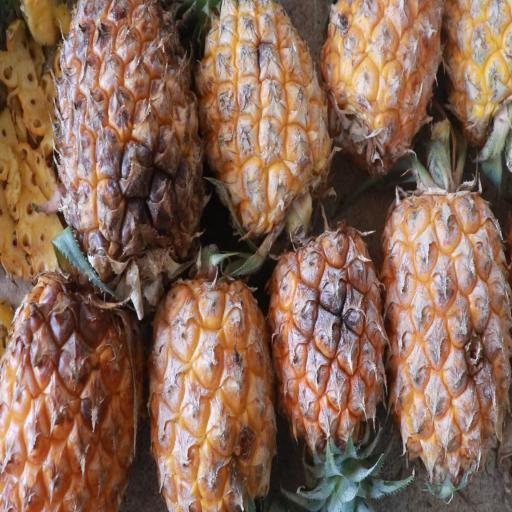Pineapple - v8 v1: (57, 0, 210, 279), (382, 176, 512, 496), (1, 263, 150, 511), (189, 0, 332, 246), (145, 258, 277, 510), (267, 217, 385, 455), (316, 0, 446, 172)
